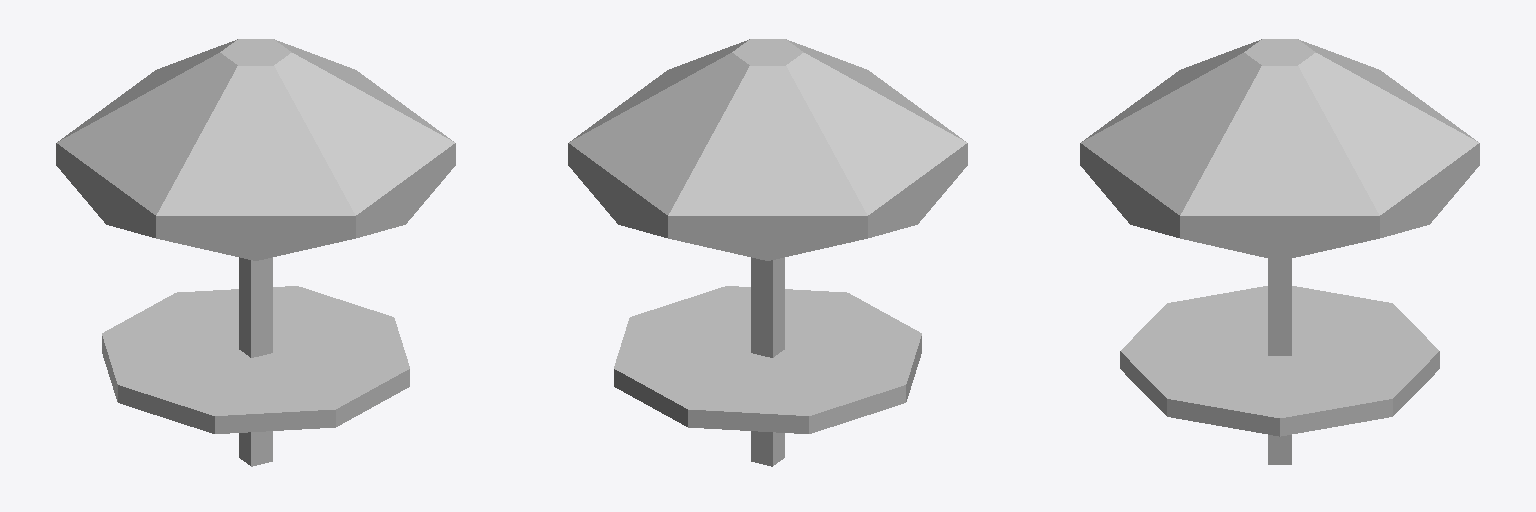
Rendered from detail_umbrellaDetailed.obj.
3 renders of one model, left to right at view 1: azimuth 30°, elevation 25°; view 2: azimuth 150°, elevation 25°; view 3: azimuth 270°, elevation 25°, orthographic.
Visible parts, largest first — view 1: detail_umbrellaDetailed; view 2: detail_umbrellaDetailed; view 3: detail_umbrellaDetailed.
Part boxes in pixels (bbox=[...]): detail_umbrellaDetailed: bbox=[56, 39, 455, 466]; detail_umbrellaDetailed: bbox=[568, 39, 967, 466]; detail_umbrellaDetailed: bbox=[1080, 39, 1479, 464].
Size of the model in its own units: 0.3464 by 0.45 by 0.4.